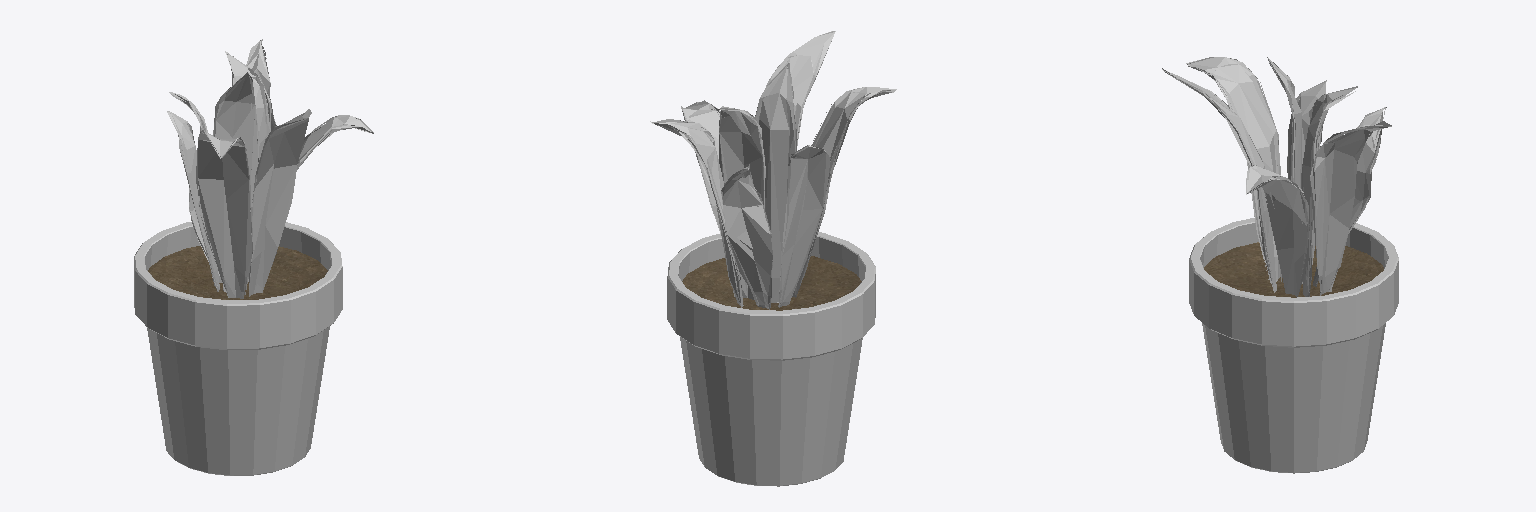
The picture shows the model from 3 angles: view 1: azimuth 30°, elevation 25°; view 2: azimuth 150°, elevation 25°; view 3: azimuth 270°, elevation 25°; orthographic projection.
Parts seen in each view (by area): view 1: Plant_Flower_pot__0, Plant_Material.001_0, Plant_Land_0; view 2: Plant_Flower_pot__0, Plant_Material.001_0, Plant_Land_0; view 3: Plant_Flower_pot__0, Plant_Material.001_0, Plant_Land_0.
Boxes of the visible parts, x1,y1,x2,y2 form: Plant_Flower_pot__0: [134, 222, 342, 475]; Plant_Material.001_0: [167, 39, 373, 298]; Plant_Land_0: [148, 246, 327, 299]; Plant_Flower_pot__0: [667, 232, 875, 486]; Plant_Material.001_0: [650, 31, 896, 309]; Plant_Land_0: [682, 256, 861, 310]; Plant_Flower_pot__0: [1189, 218, 1398, 473]; Plant_Material.001_0: [1162, 57, 1391, 296]; Plant_Land_0: [1204, 242, 1383, 297].
Size of the model in its own units: 1.13 by 2.05 by 1.15.
Materials: 3 (1 with a texture image).